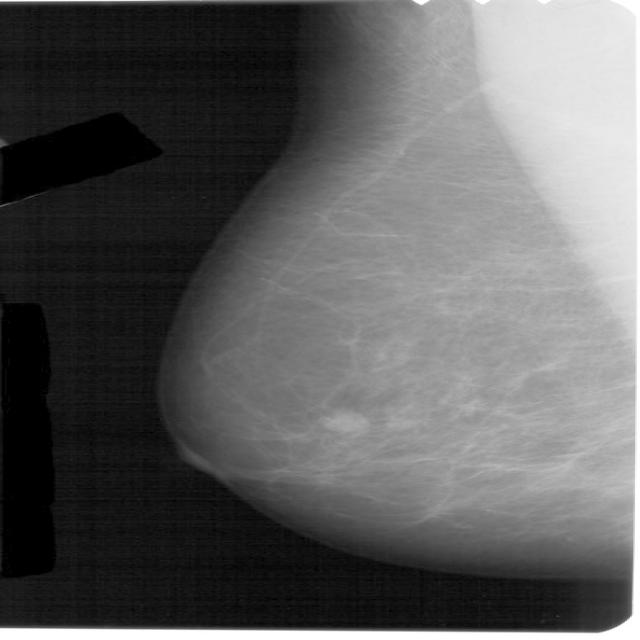tumour: (318, 410, 369, 433)
